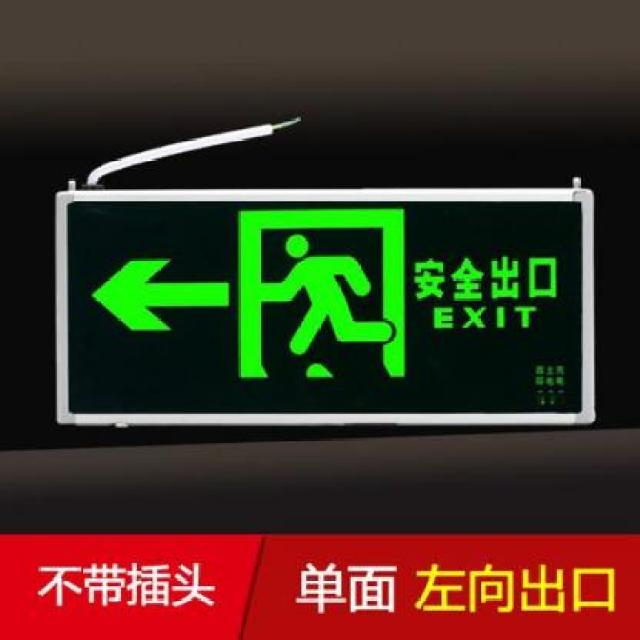exit_sign: (38, 169, 602, 437)
